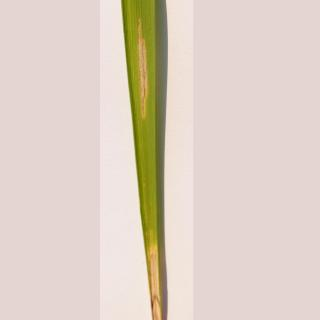Hawar-Daun: (122, 17, 161, 131), (136, 235, 188, 320)
